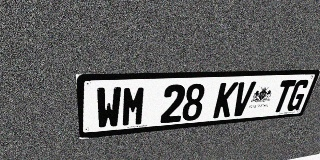2: (160, 84, 186, 123)
8: (181, 83, 207, 121)
G: (285, 79, 311, 112)
K: (212, 82, 239, 118)
M: (121, 85, 147, 127)
T: (270, 80, 297, 113)
V: (230, 81, 256, 117)
W: (96, 86, 122, 129)
